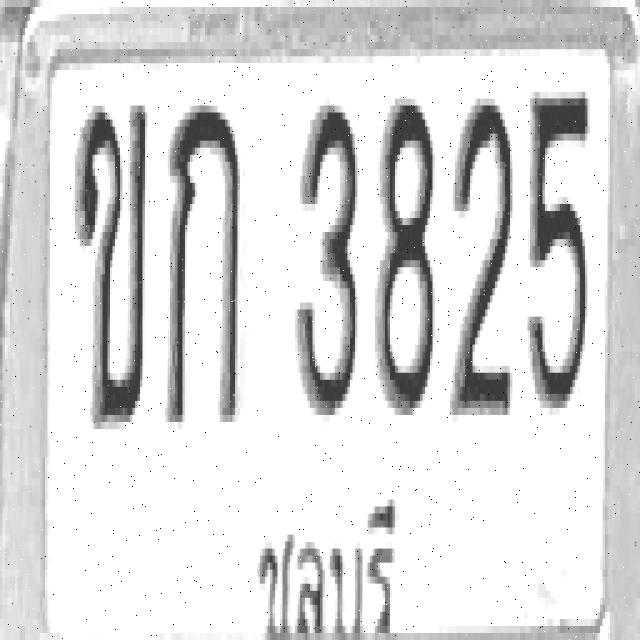10GorGai: (165, 102, 240, 426)
11KhorKhai: (74, 99, 148, 428)
2: (450, 91, 512, 415)
3: (295, 98, 357, 414)
5: (528, 88, 590, 412)
8: (376, 98, 434, 414)
Chonburi: (242, 476, 413, 640)
